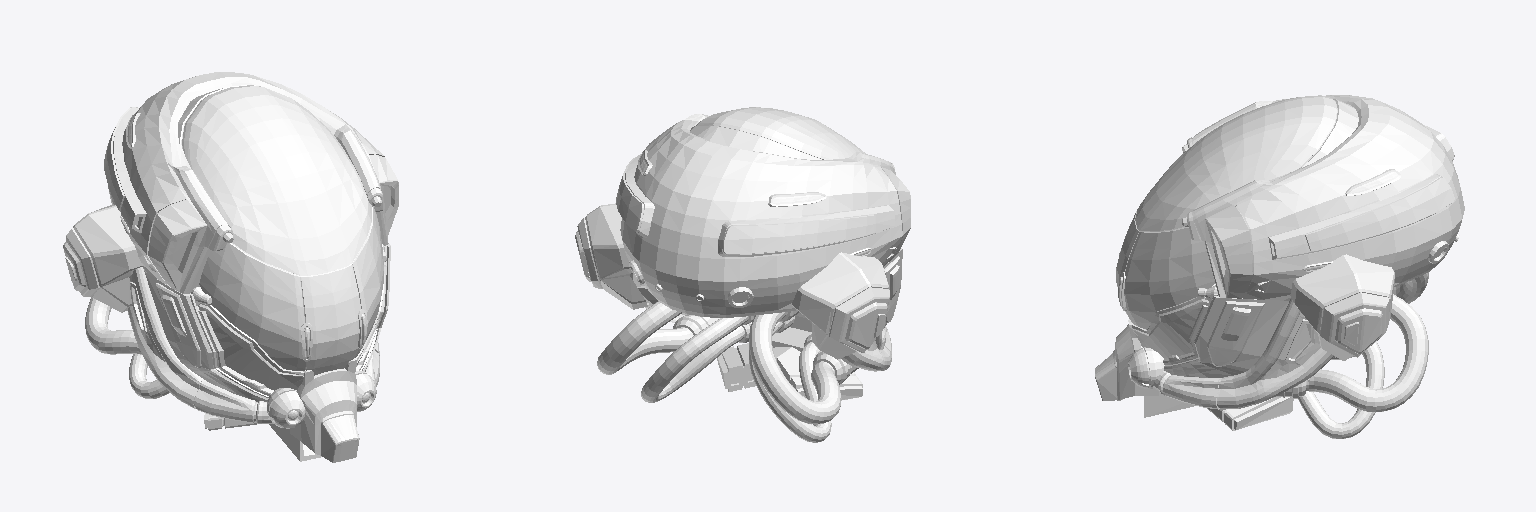
Rendered from DamagedHelmet.obj.
The picture shows the model from 3 angles: view 1: azimuth 30°, elevation 25°; view 2: azimuth 150°, elevation 25°; view 3: azimuth 270°, elevation 25°; orthographic projection.
Parts seen in each view (by area): view 1: mesh_helmet_LP_13930damagedHelmet; view 2: mesh_helmet_LP_13930damagedHelmet; view 3: mesh_helmet_LP_13930damagedHelmet.
Part boxes in pixels (x1,y1,x2,y2): mesh_helmet_LP_13930damagedHelmet: (63,72,398,462); mesh_helmet_LP_13930damagedHelmet: (575,107,910,442); mesh_helmet_LP_13930damagedHelmet: (1095,95,1464,438).
Size of the model in its own units: 1.89 by 1.8 by 2.